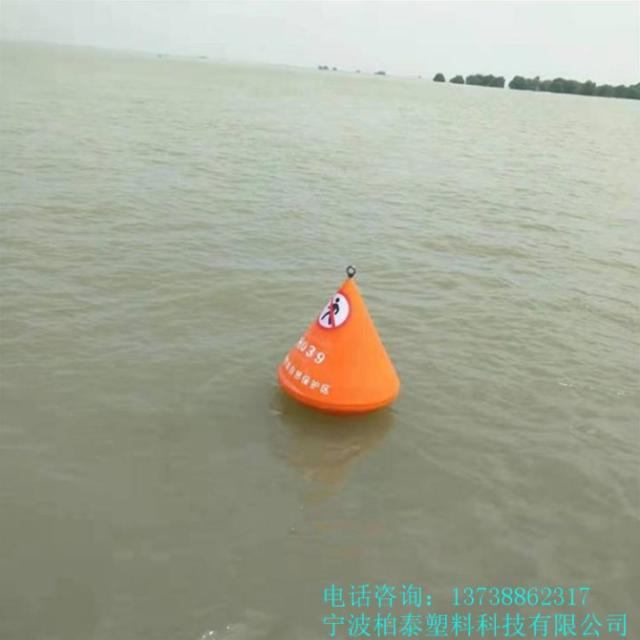buoy: (276, 263, 408, 406)
